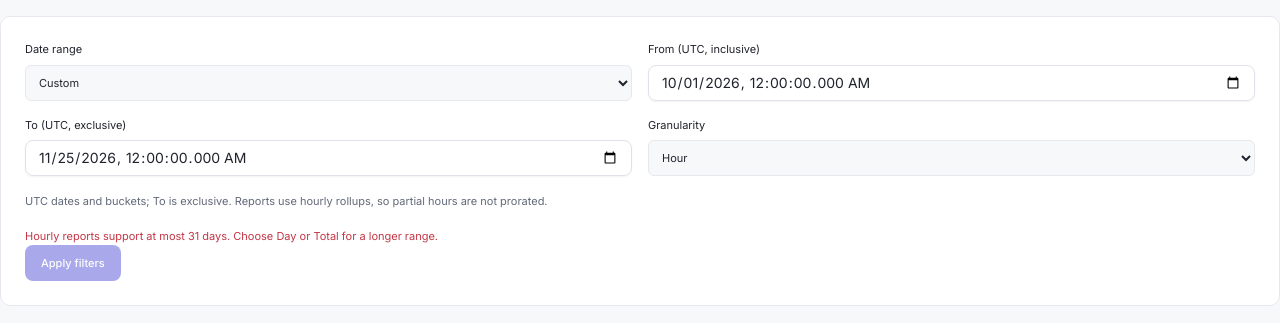
it: disables invalid hourly ranges and permits correction without a request
Later steps or results of the test are not shown.
Expected: the button "Apply filters" is disabled, top-left (25, 245), bottom-right (121, 281)
Select "Day" in the dropdown labelled "Granularity" at (952, 158), box top-left (648, 140), bottom-right (1255, 176)
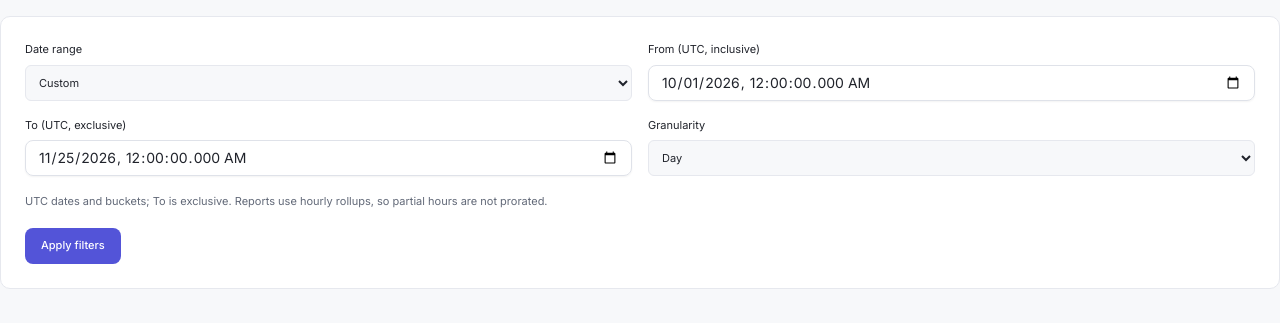
Now the button "Apply filters" is enabled, box top-left (25, 228), bottom-right (121, 264)
